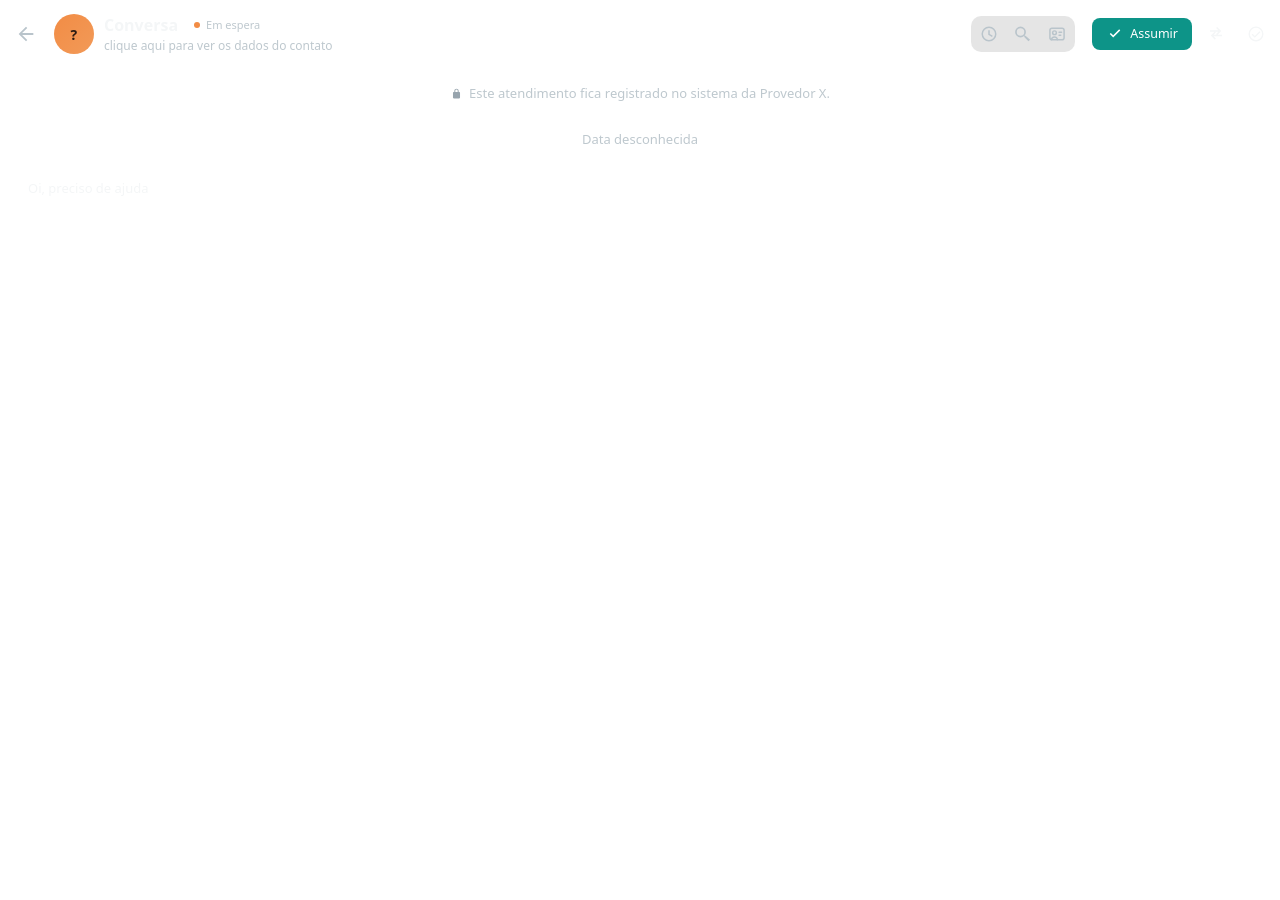
Scenario: ConversationView › shows an alert with the backend error when claiming fails
Click the button "Assumir" at {"x": 1142, "y": 34}, box [1092,18,1192,50]
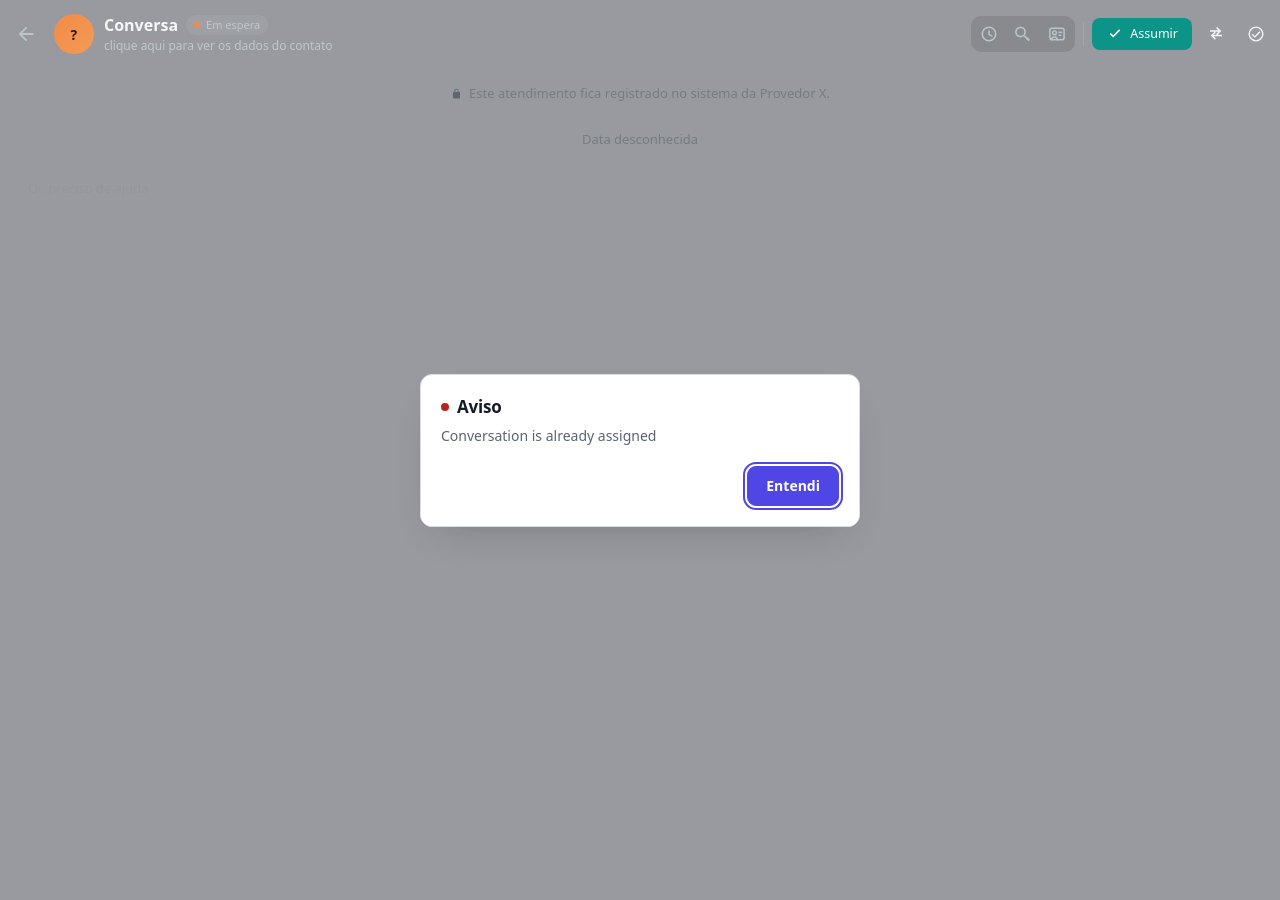
Expected: the dialog shows "Conversation is already assigned", [441,426,656,444]
Click the button "Entendi" at {"x": 793, "y": 486}, box [747,466,839,506]
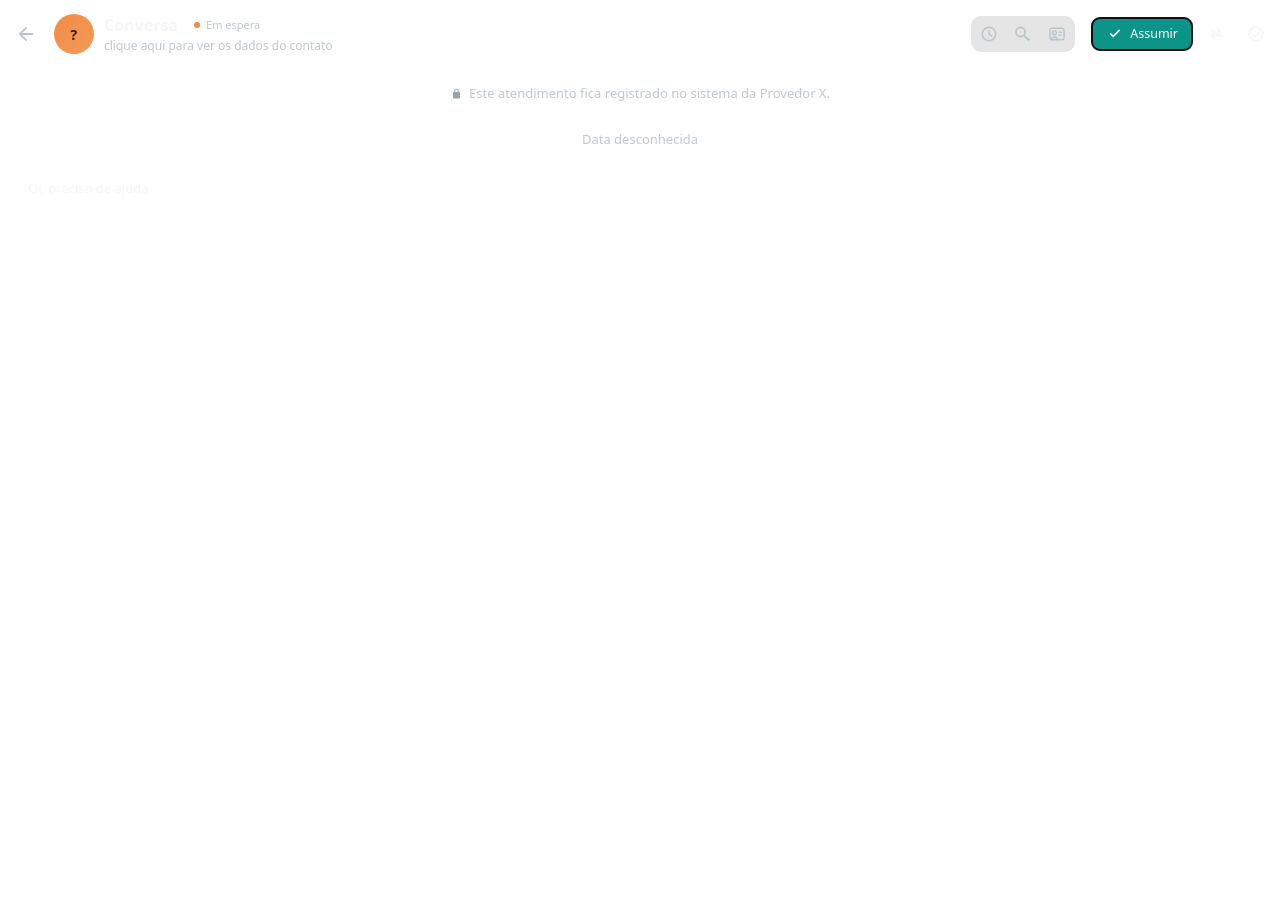
Expected: the dialog is gone
